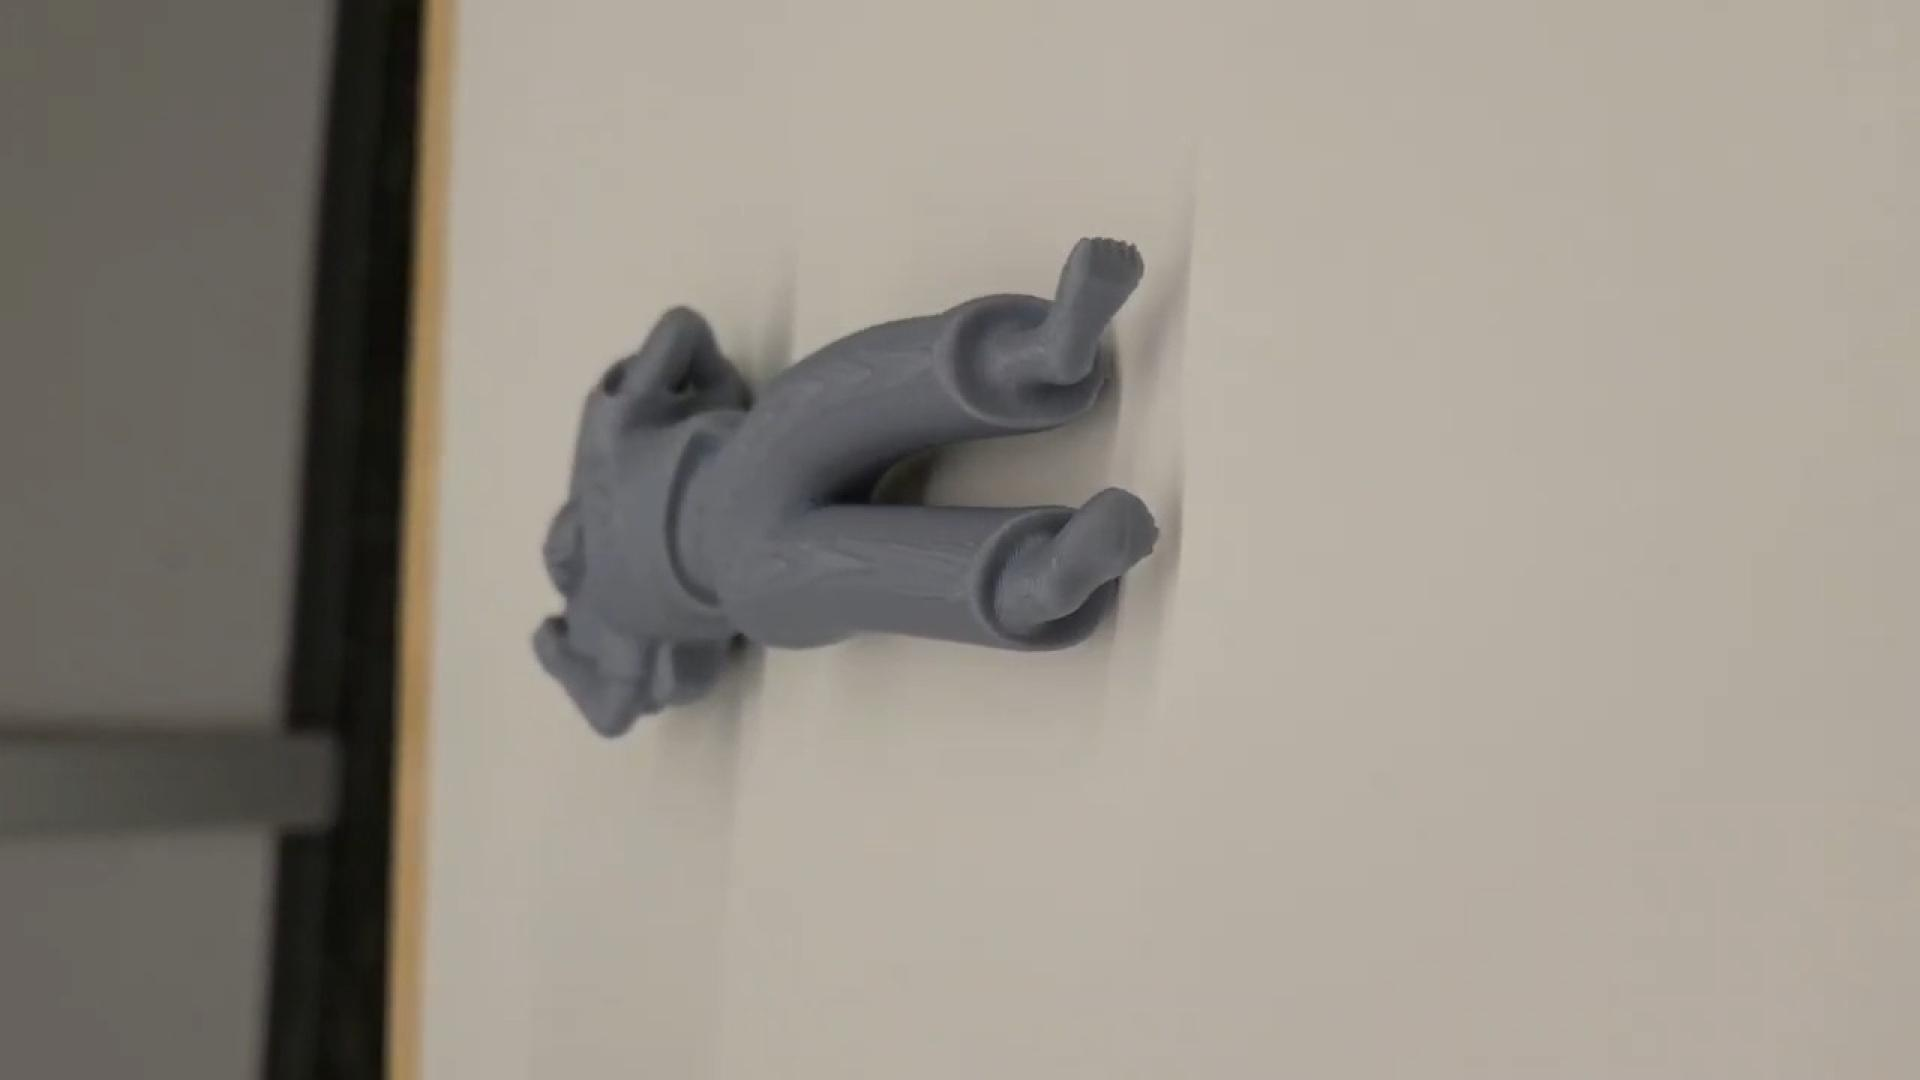Bad-style: (534, 231, 1163, 746)
